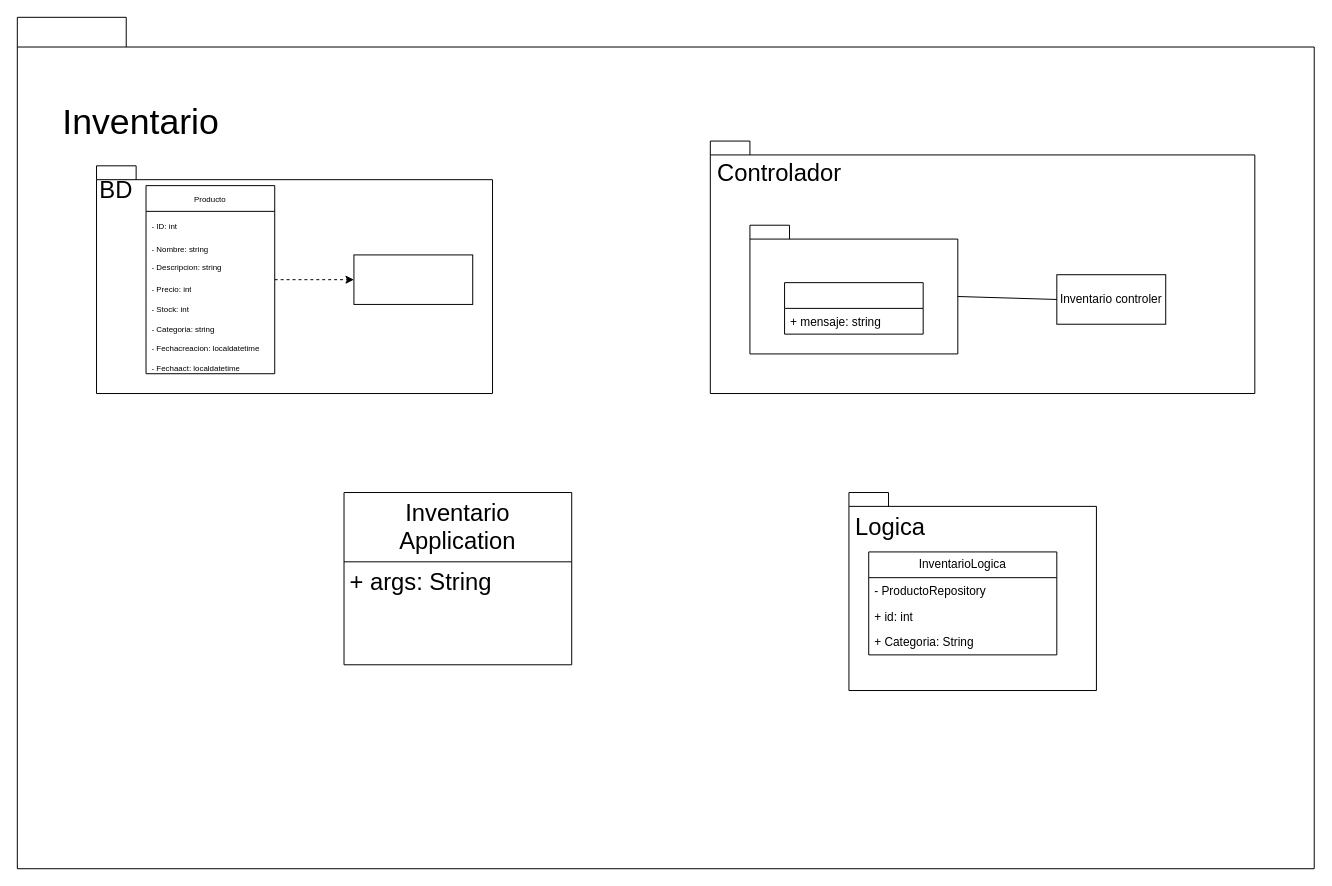
Image size: 1332x886. Some labels were removed from this diagram. The box of each missing label's shape, as (x1, y1, x2, y2) in pixels:
RespuestaDTO: (784, 282, 923, 334)
«interface» ProductoRepository: (353, 254, 473, 304)
